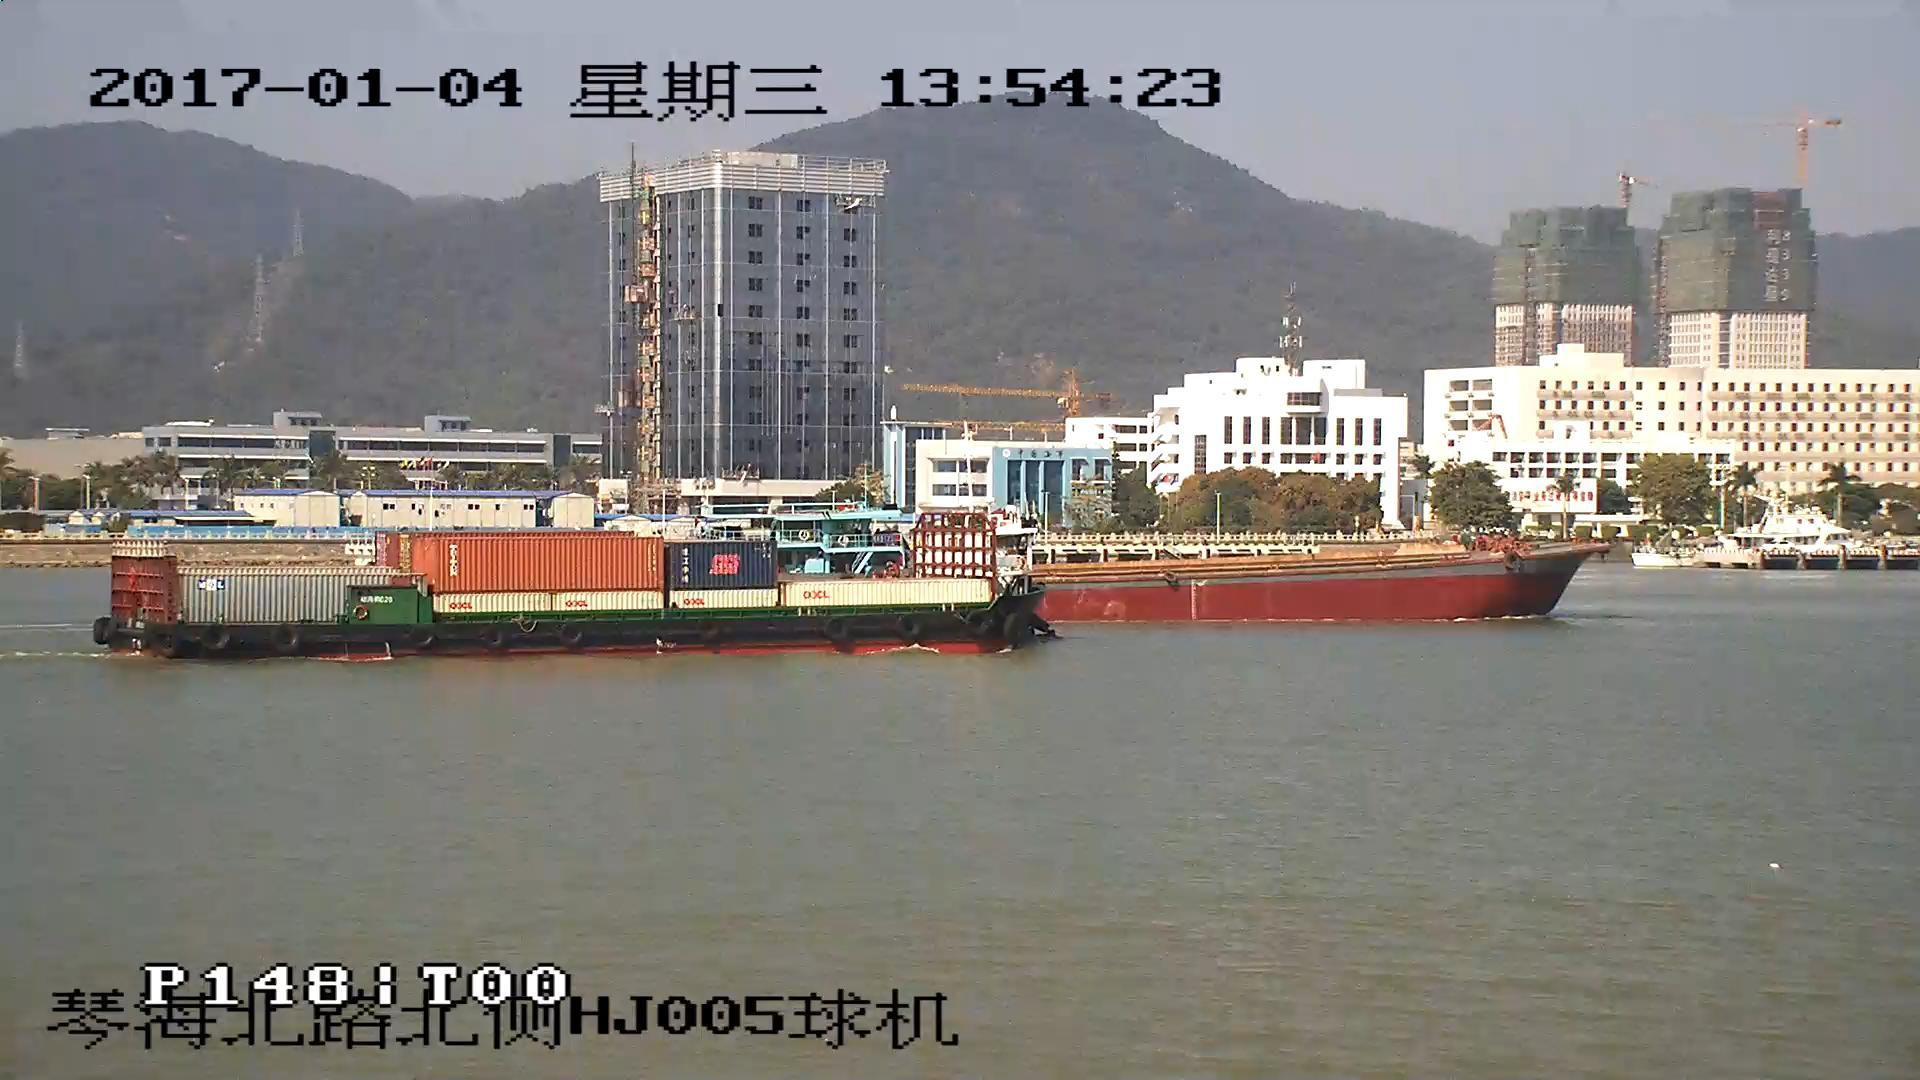Ship: (96, 516, 1059, 661), (1058, 541, 1606, 620)
